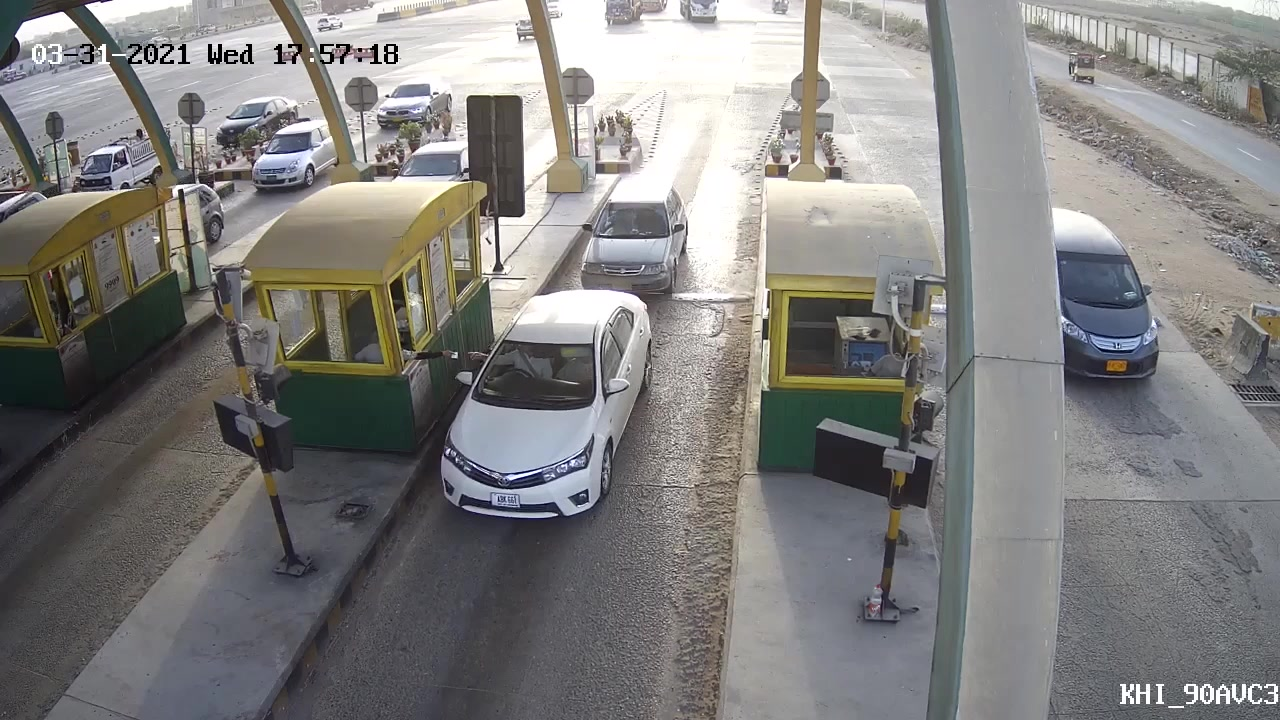F1: (433, 283, 661, 524)
